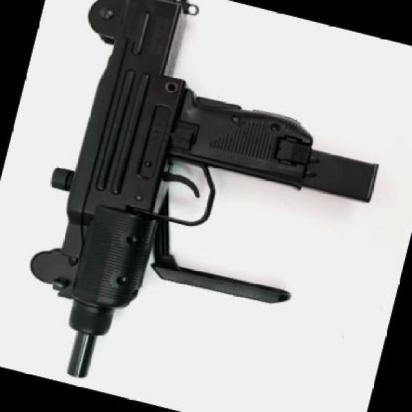Gun: (25, 0, 357, 375)
